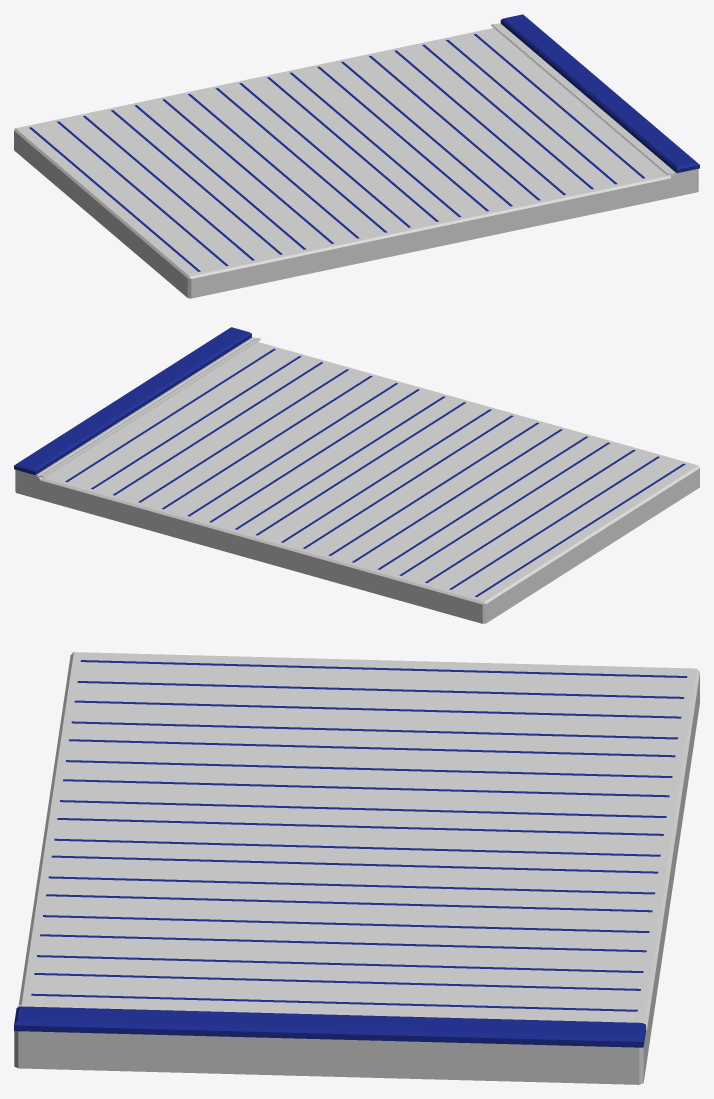
The model's file is notebook.glb.
3 renders of one model, top to bottom at view 1: azimuth 30°, elevation 25°; view 2: azimuth 150°, elevation 25°; view 3: azimuth 270°, elevation 25°, orthographic. The views are drawn at different scales.
Parts seen in each view (by area): view 1: Notebook, Notebook_Lines, Notebook_Top; view 2: Notebook, Notebook_Lines, Notebook_Top; view 3: Notebook, Notebook_Lines, Notebook_Top.
Boxes of the visible parts, <box> form: Notebook: <box>14,23,698,298</box>; Notebook_Lines: <box>29,34,644,271</box>; Notebook_Top: <box>500,14,699,173</box>; Notebook: <box>15,337,699,623</box>; Notebook_Lines: <box>65,349,685,596</box>; Notebook_Top: <box>14,327,251,475</box>; Notebook: <box>14,652,699,1084</box>; Notebook_Lines: <box>31,660,687,1011</box>; Notebook_Top: <box>14,1006,645,1047</box>.
Size of the model in its own units: 0.4328 by 0.0232 by 0.3136.
